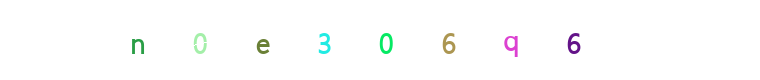0: (244, 0, 324, 80), (346, 0, 426, 80)
3: (340, 0, 420, 80)
6: (381, 0, 461, 80), (533, 0, 613, 80)
E: (285, 0, 365, 80)
N: (159, 0, 239, 80)
Q: (480, 0, 560, 80)
